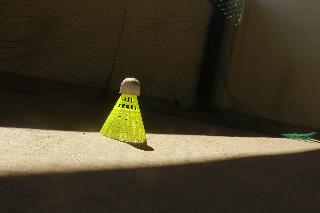shuttlecock: (98, 78, 146, 139)
